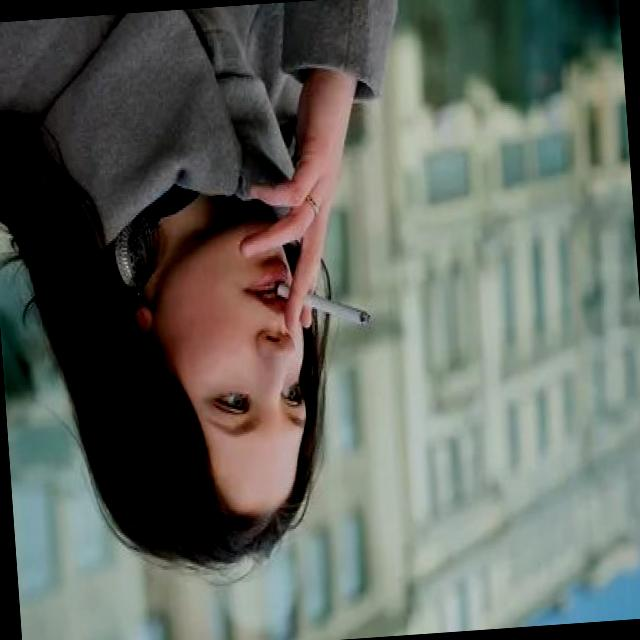smoke: (270, 272, 370, 334)
